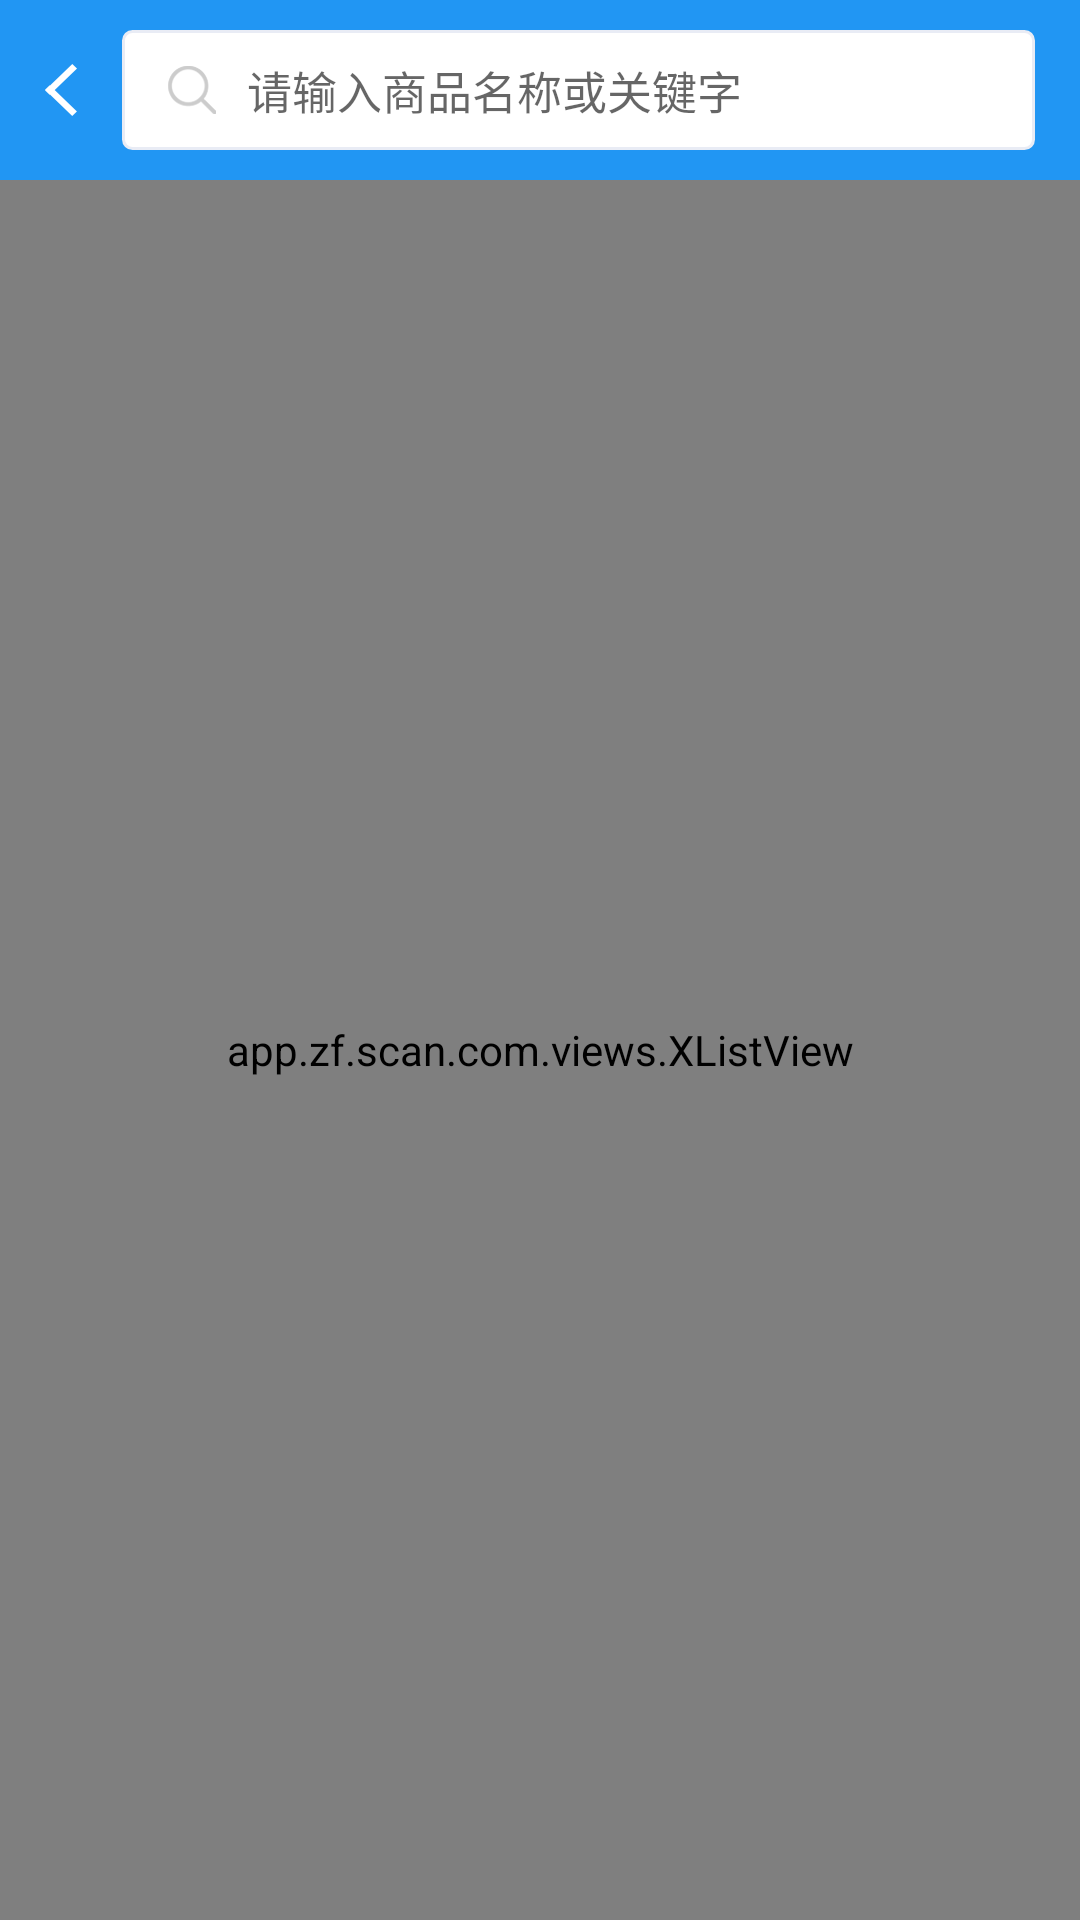

Icons on this 1080px×1920px Android screen, each with its box as (x1, y1, x2, y2):
return: (45, 64, 77, 116)
serch: (168, 66, 216, 114)
